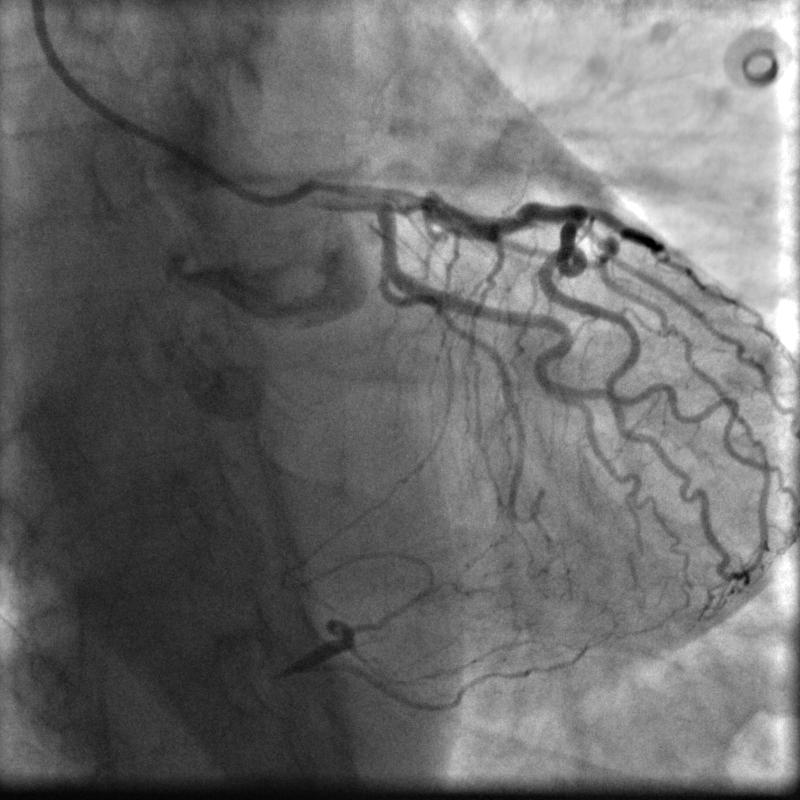Stenosis: (401, 183, 442, 216)
